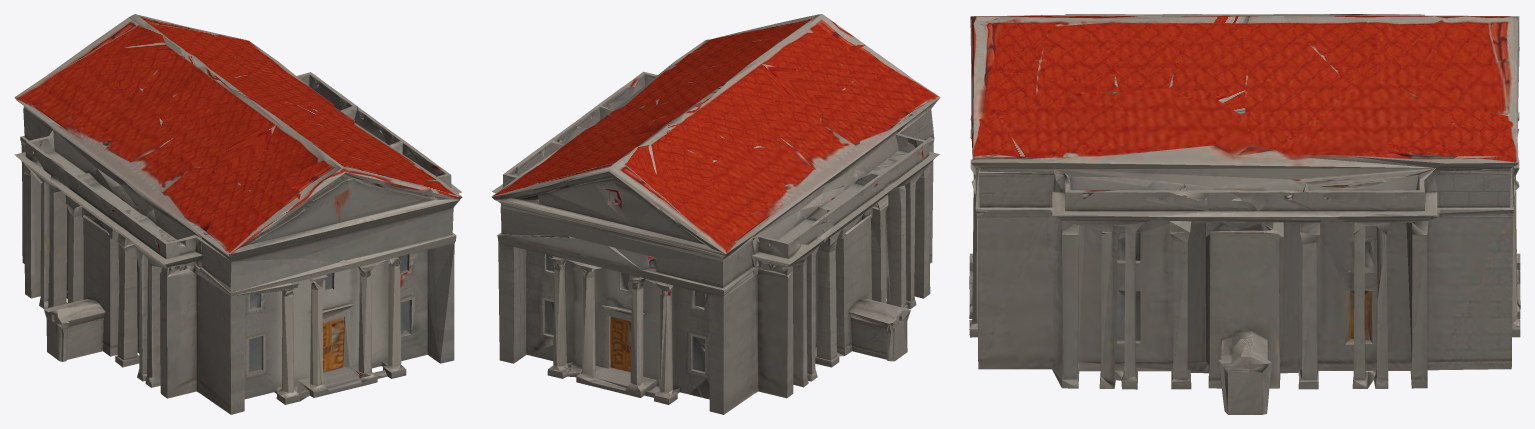
The model's file is curia.glb.
3 views of the same model, side by side, from view 1: azimuth 30°, elevation 25°; view 2: azimuth 150°, elevation 25°; view 3: azimuth 270°, elevation 25° (orthographic). The views are drawn at different scales.
Parts seen in each view (by area): view 1: curia; view 2: curia; view 3: curia.
Part boxes in pixels (left/top/right/bottom): curia: left=14, top=14, right=462, bottom=414; curia: left=491, top=14, right=940, bottom=414; curia: left=969, top=14, right=1520, bottom=414.
Bounding box in the file's own units: 21.92 × 12.46 × 22.
Materials: 1 (1 with a texture image).
